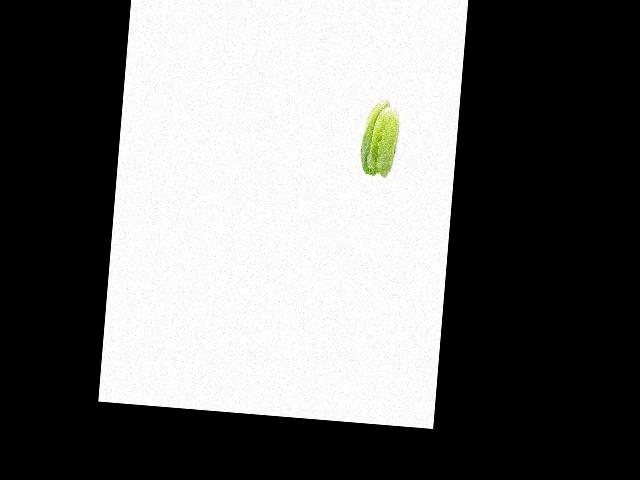lettuce: (358, 98, 405, 179)
